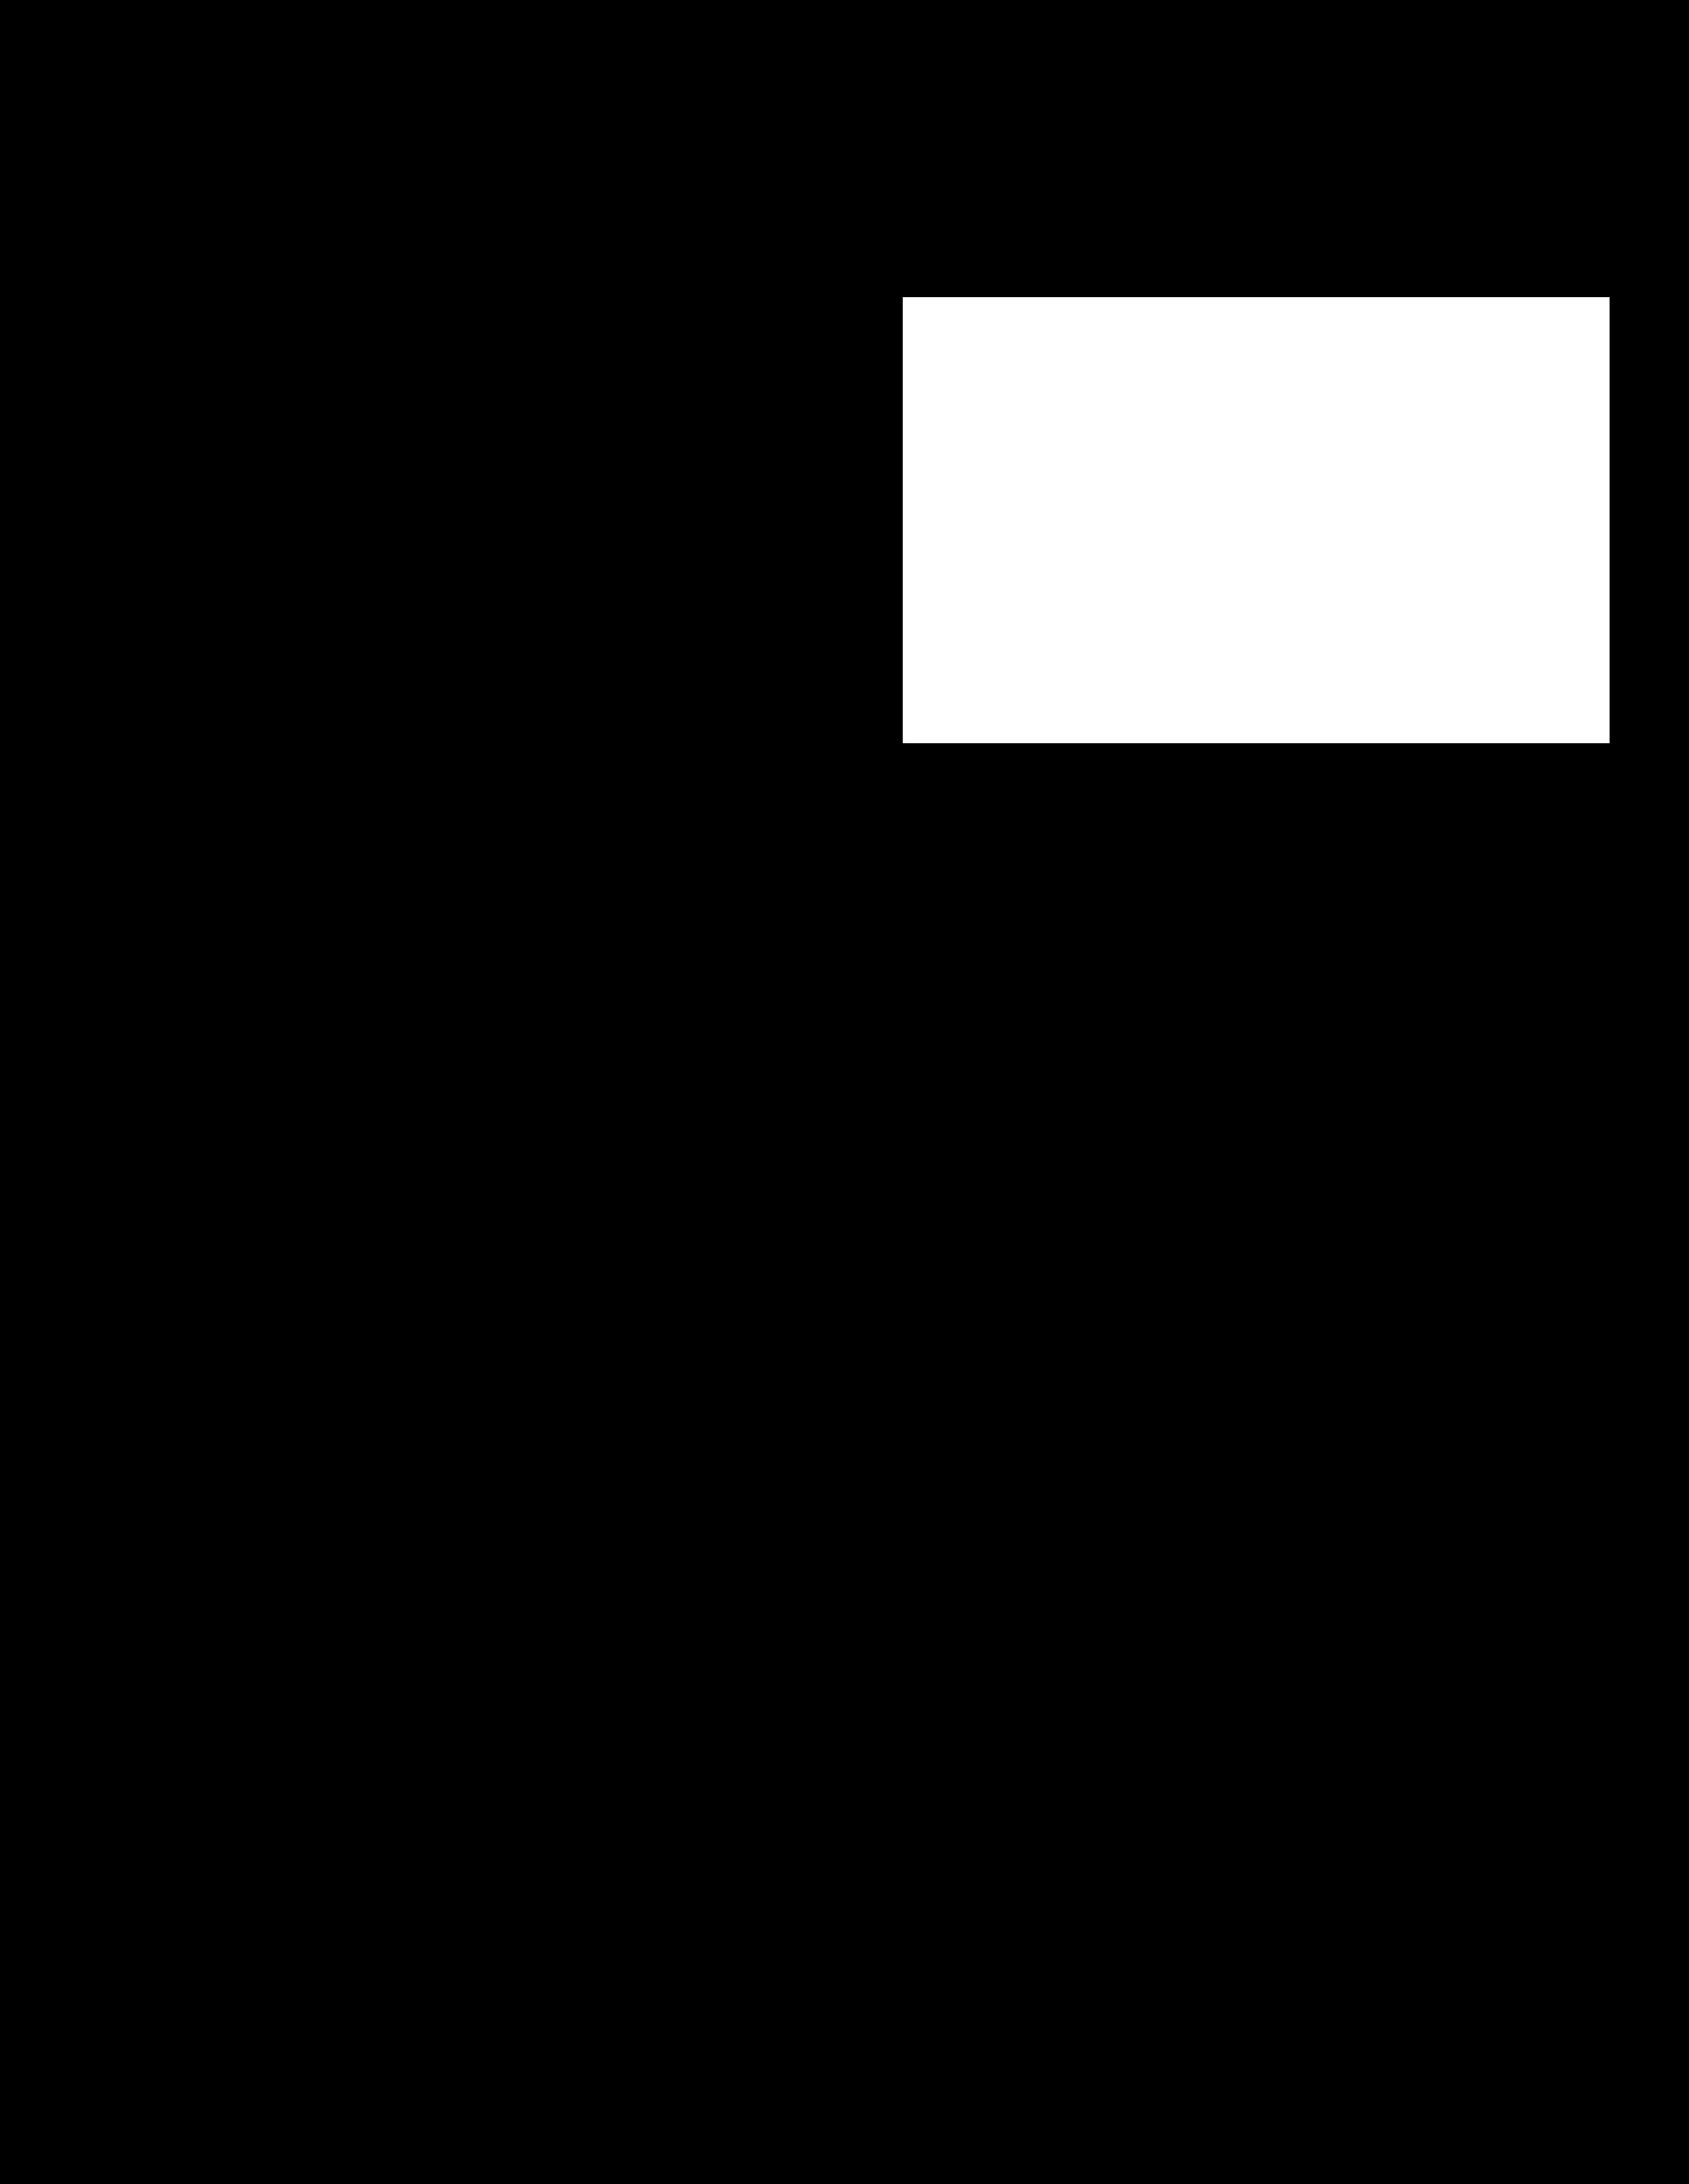table: (902, 298, 1609, 743)
